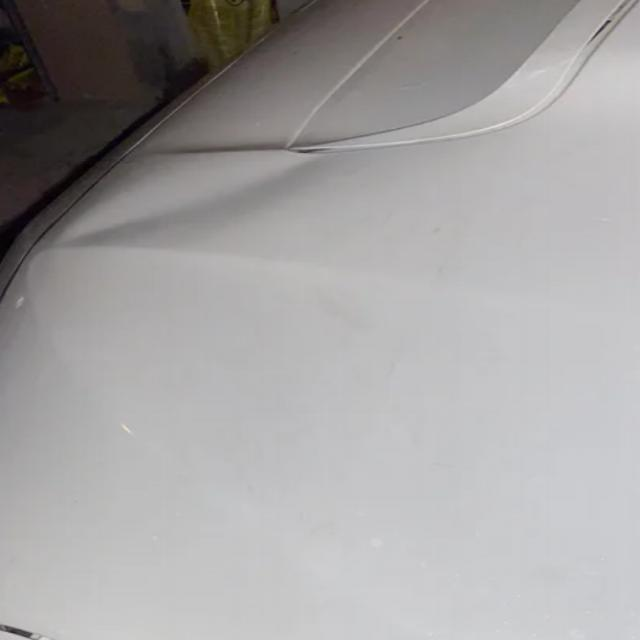dents: (50, 172, 322, 248)
